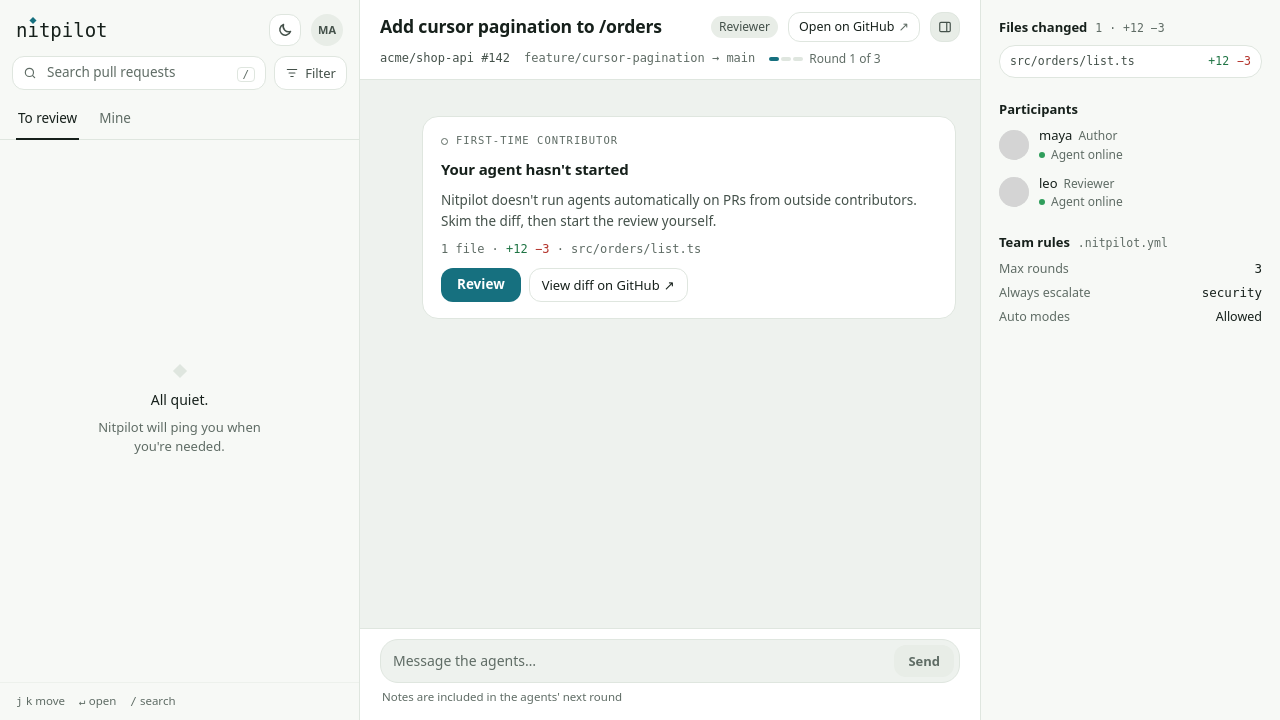
Chat (handoff §2) › starts the review of an outside contributor's PR from its card
Click the button "Review": (481, 285) [441,268,521,302]
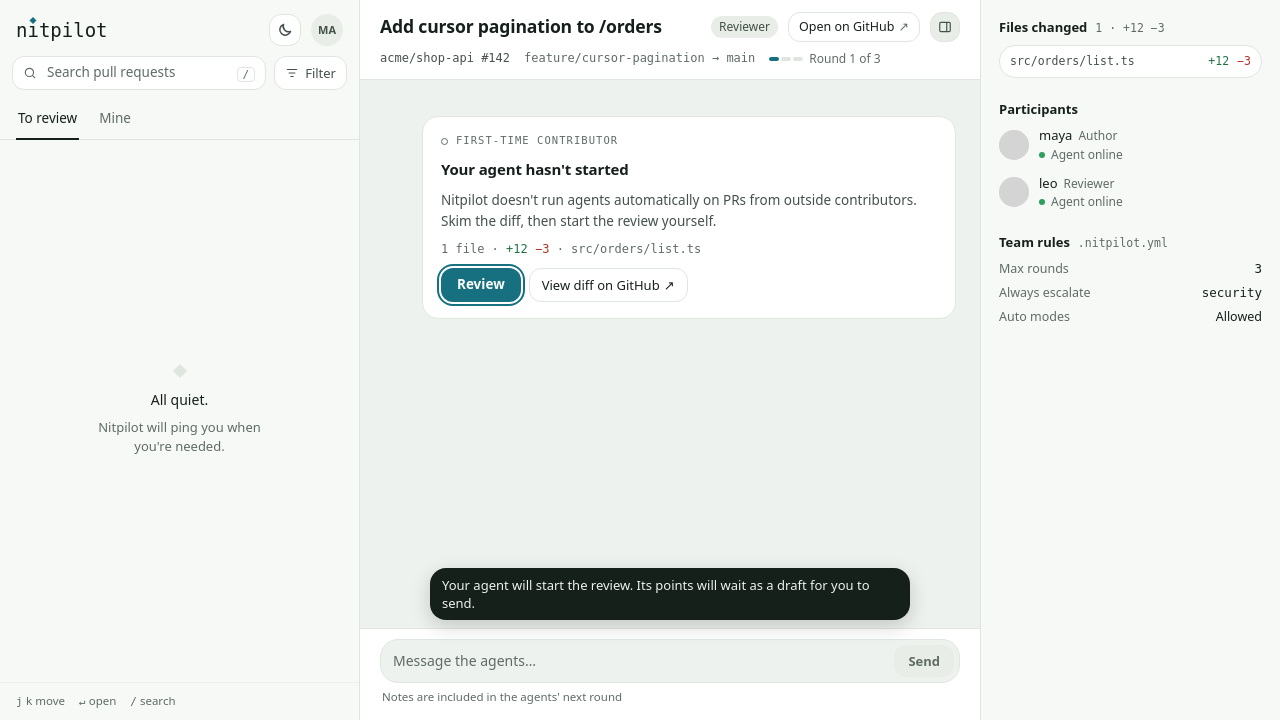
Expected: the text "Your agent will start the review. Its points will wait as a draft for you to send." is shown, [442,576,870,612]
